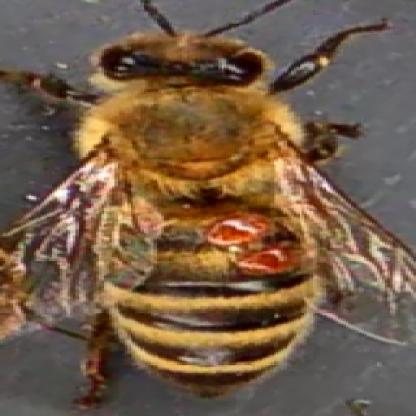bee: (81, 27, 323, 394)
vaoora: (216, 213, 270, 242), (240, 247, 287, 272)
